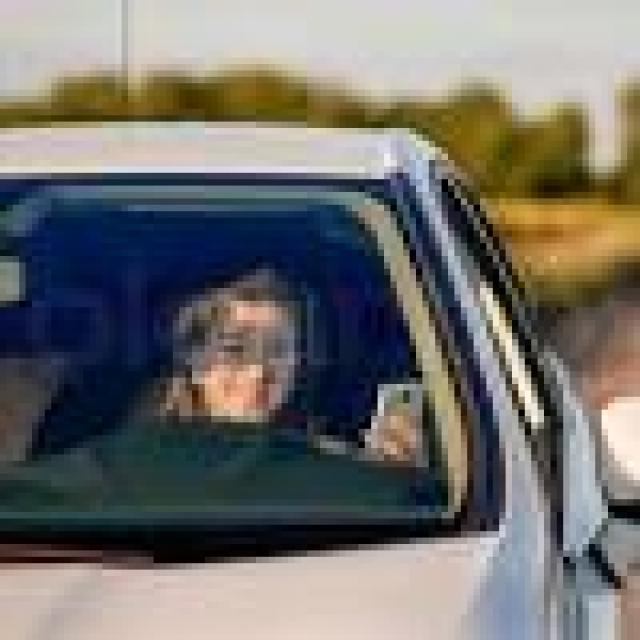Cellphone_texting: (352, 371, 435, 474)
